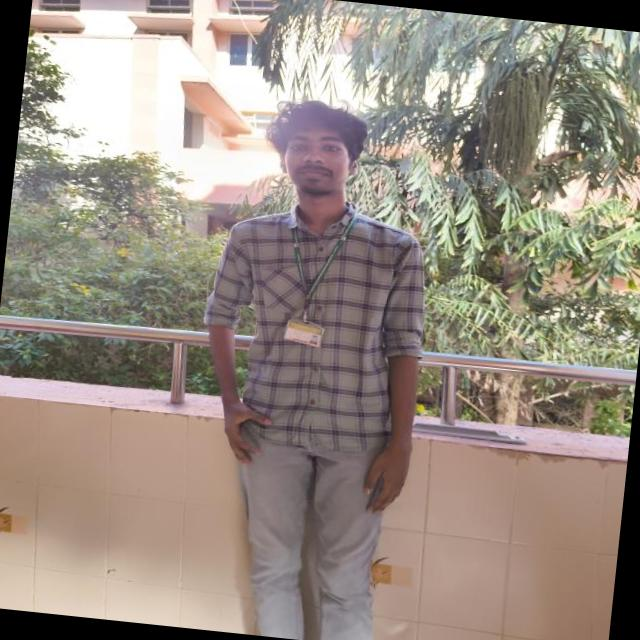id_card: (280, 204, 357, 350)
